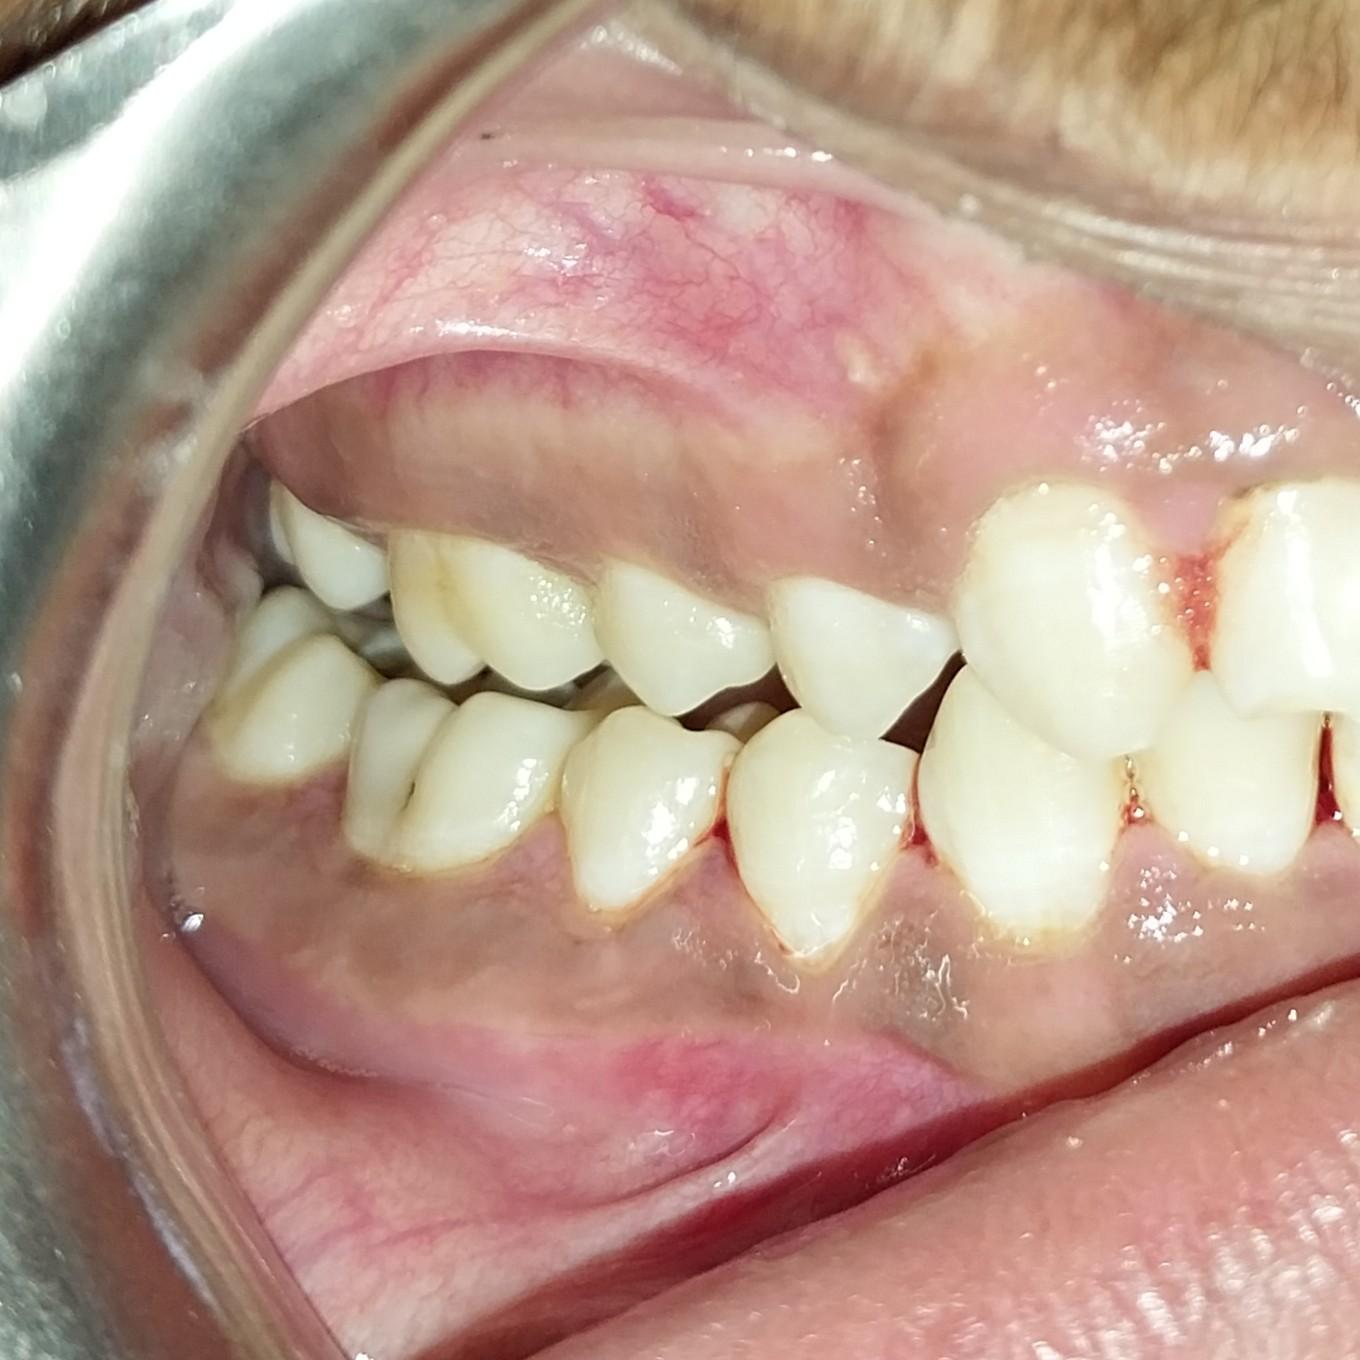D: (338, 670, 568, 877)
